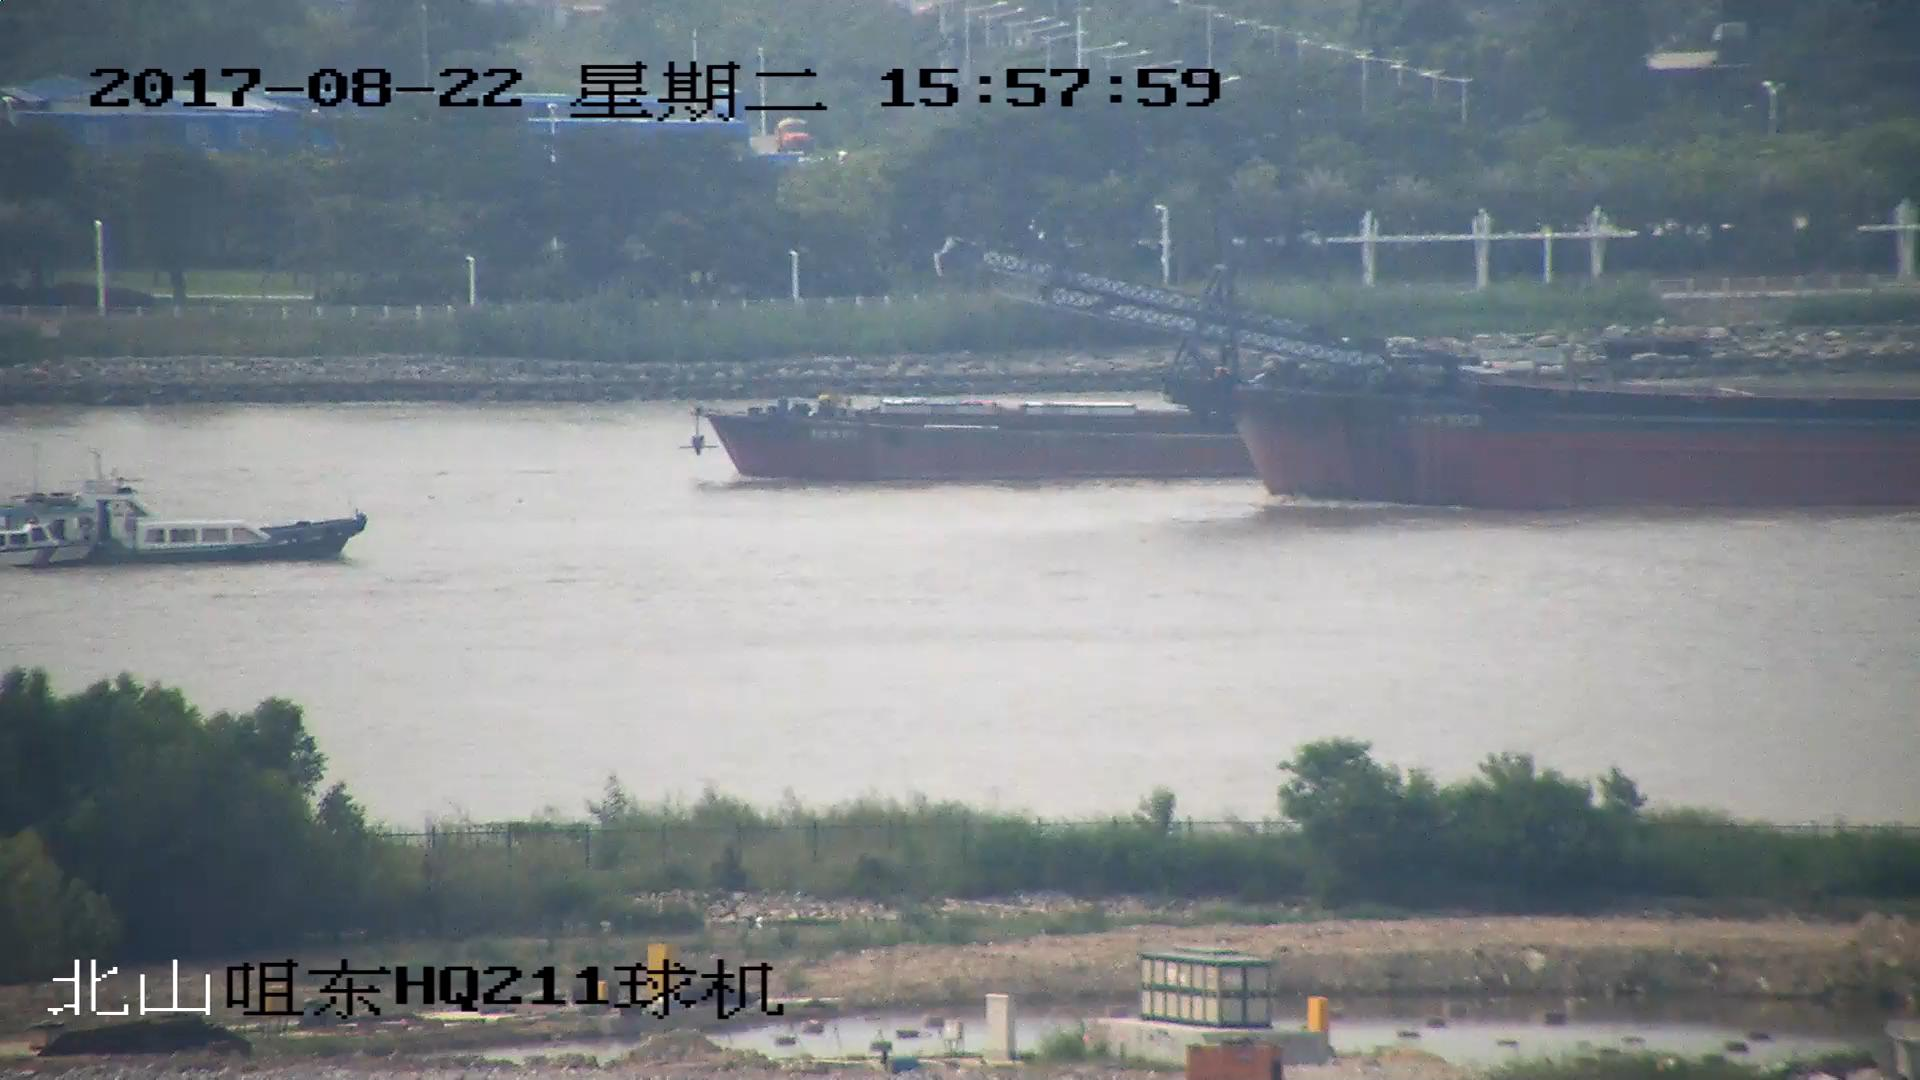bulk cargo carrier: (944, 244, 1920, 515), (687, 388, 1261, 484)
fishing boat: (1, 474, 361, 570)
